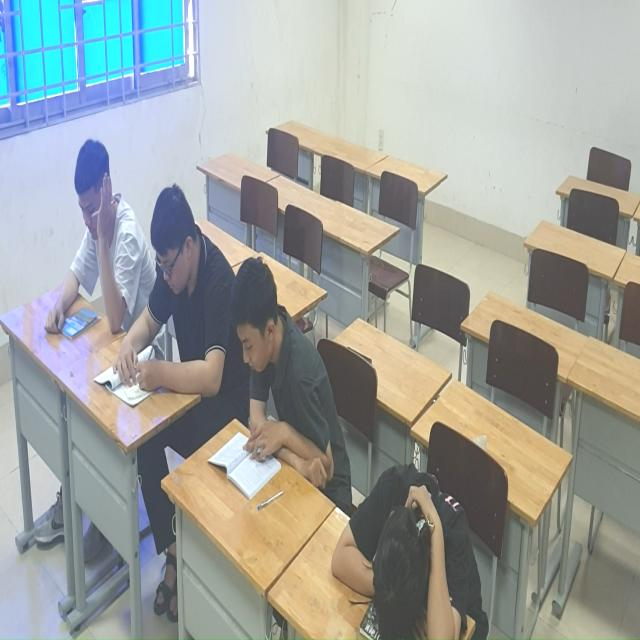raise_hand: (38, 137, 144, 352)
read: (113, 184, 225, 431), (225, 253, 335, 483)
sleep: (331, 454, 499, 640)
